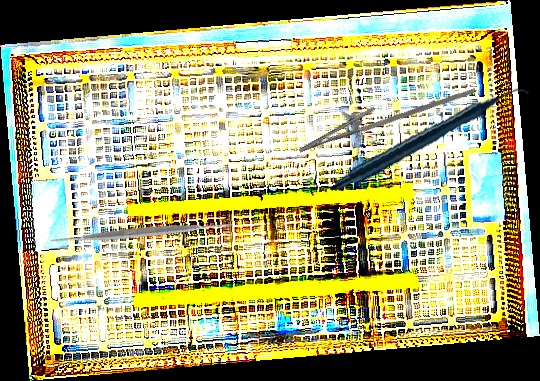Handpiece: (334, 65, 530, 215)
Needle Holder: (292, 54, 477, 174)
Spatula Surgical: (43, 134, 241, 332)
